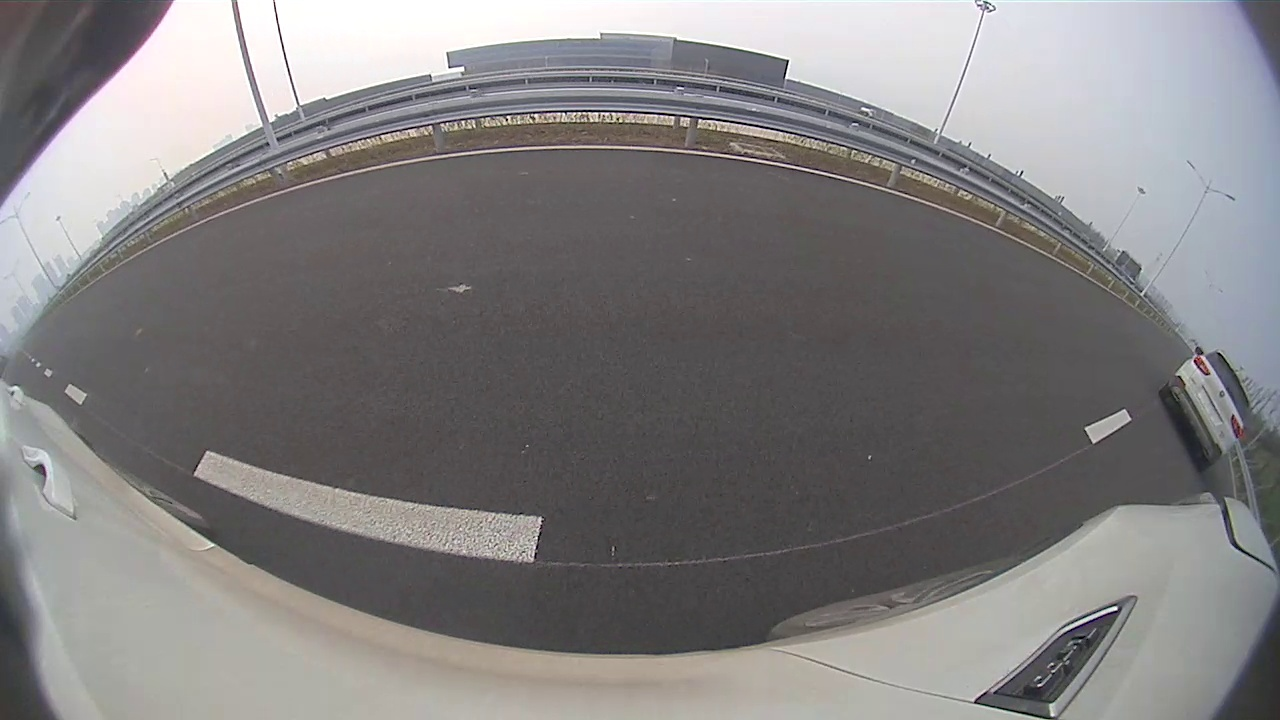car: (1156, 349, 1253, 470)
